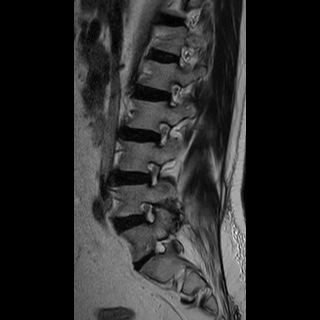RFS0: (154, 75, 190, 114), (137, 155, 173, 191), (144, 117, 179, 152), (133, 194, 168, 228)
